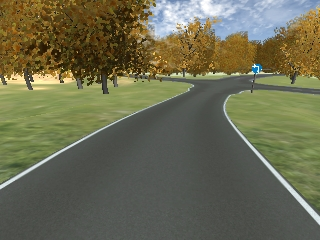left: (253, 64, 260, 74)
